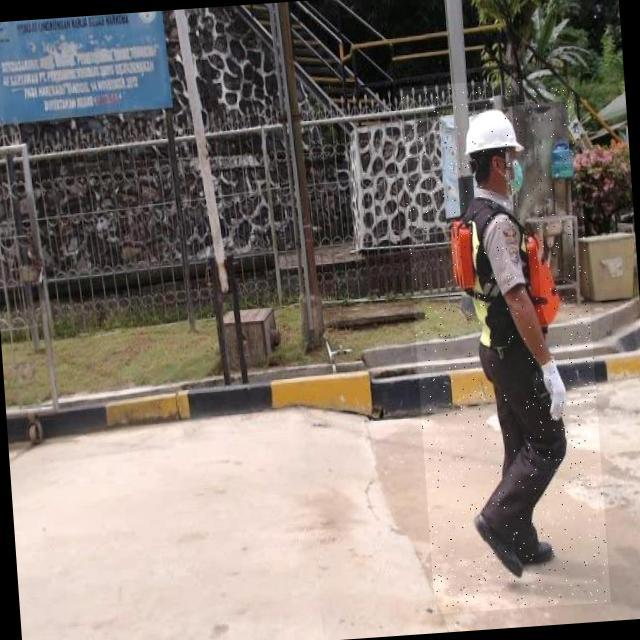Helmet: (461, 104, 527, 155)
Human: (398, 75, 611, 614)
Safety Boot: (471, 504, 525, 587), (505, 531, 561, 569)
Safety Vest: (448, 201, 566, 355)
